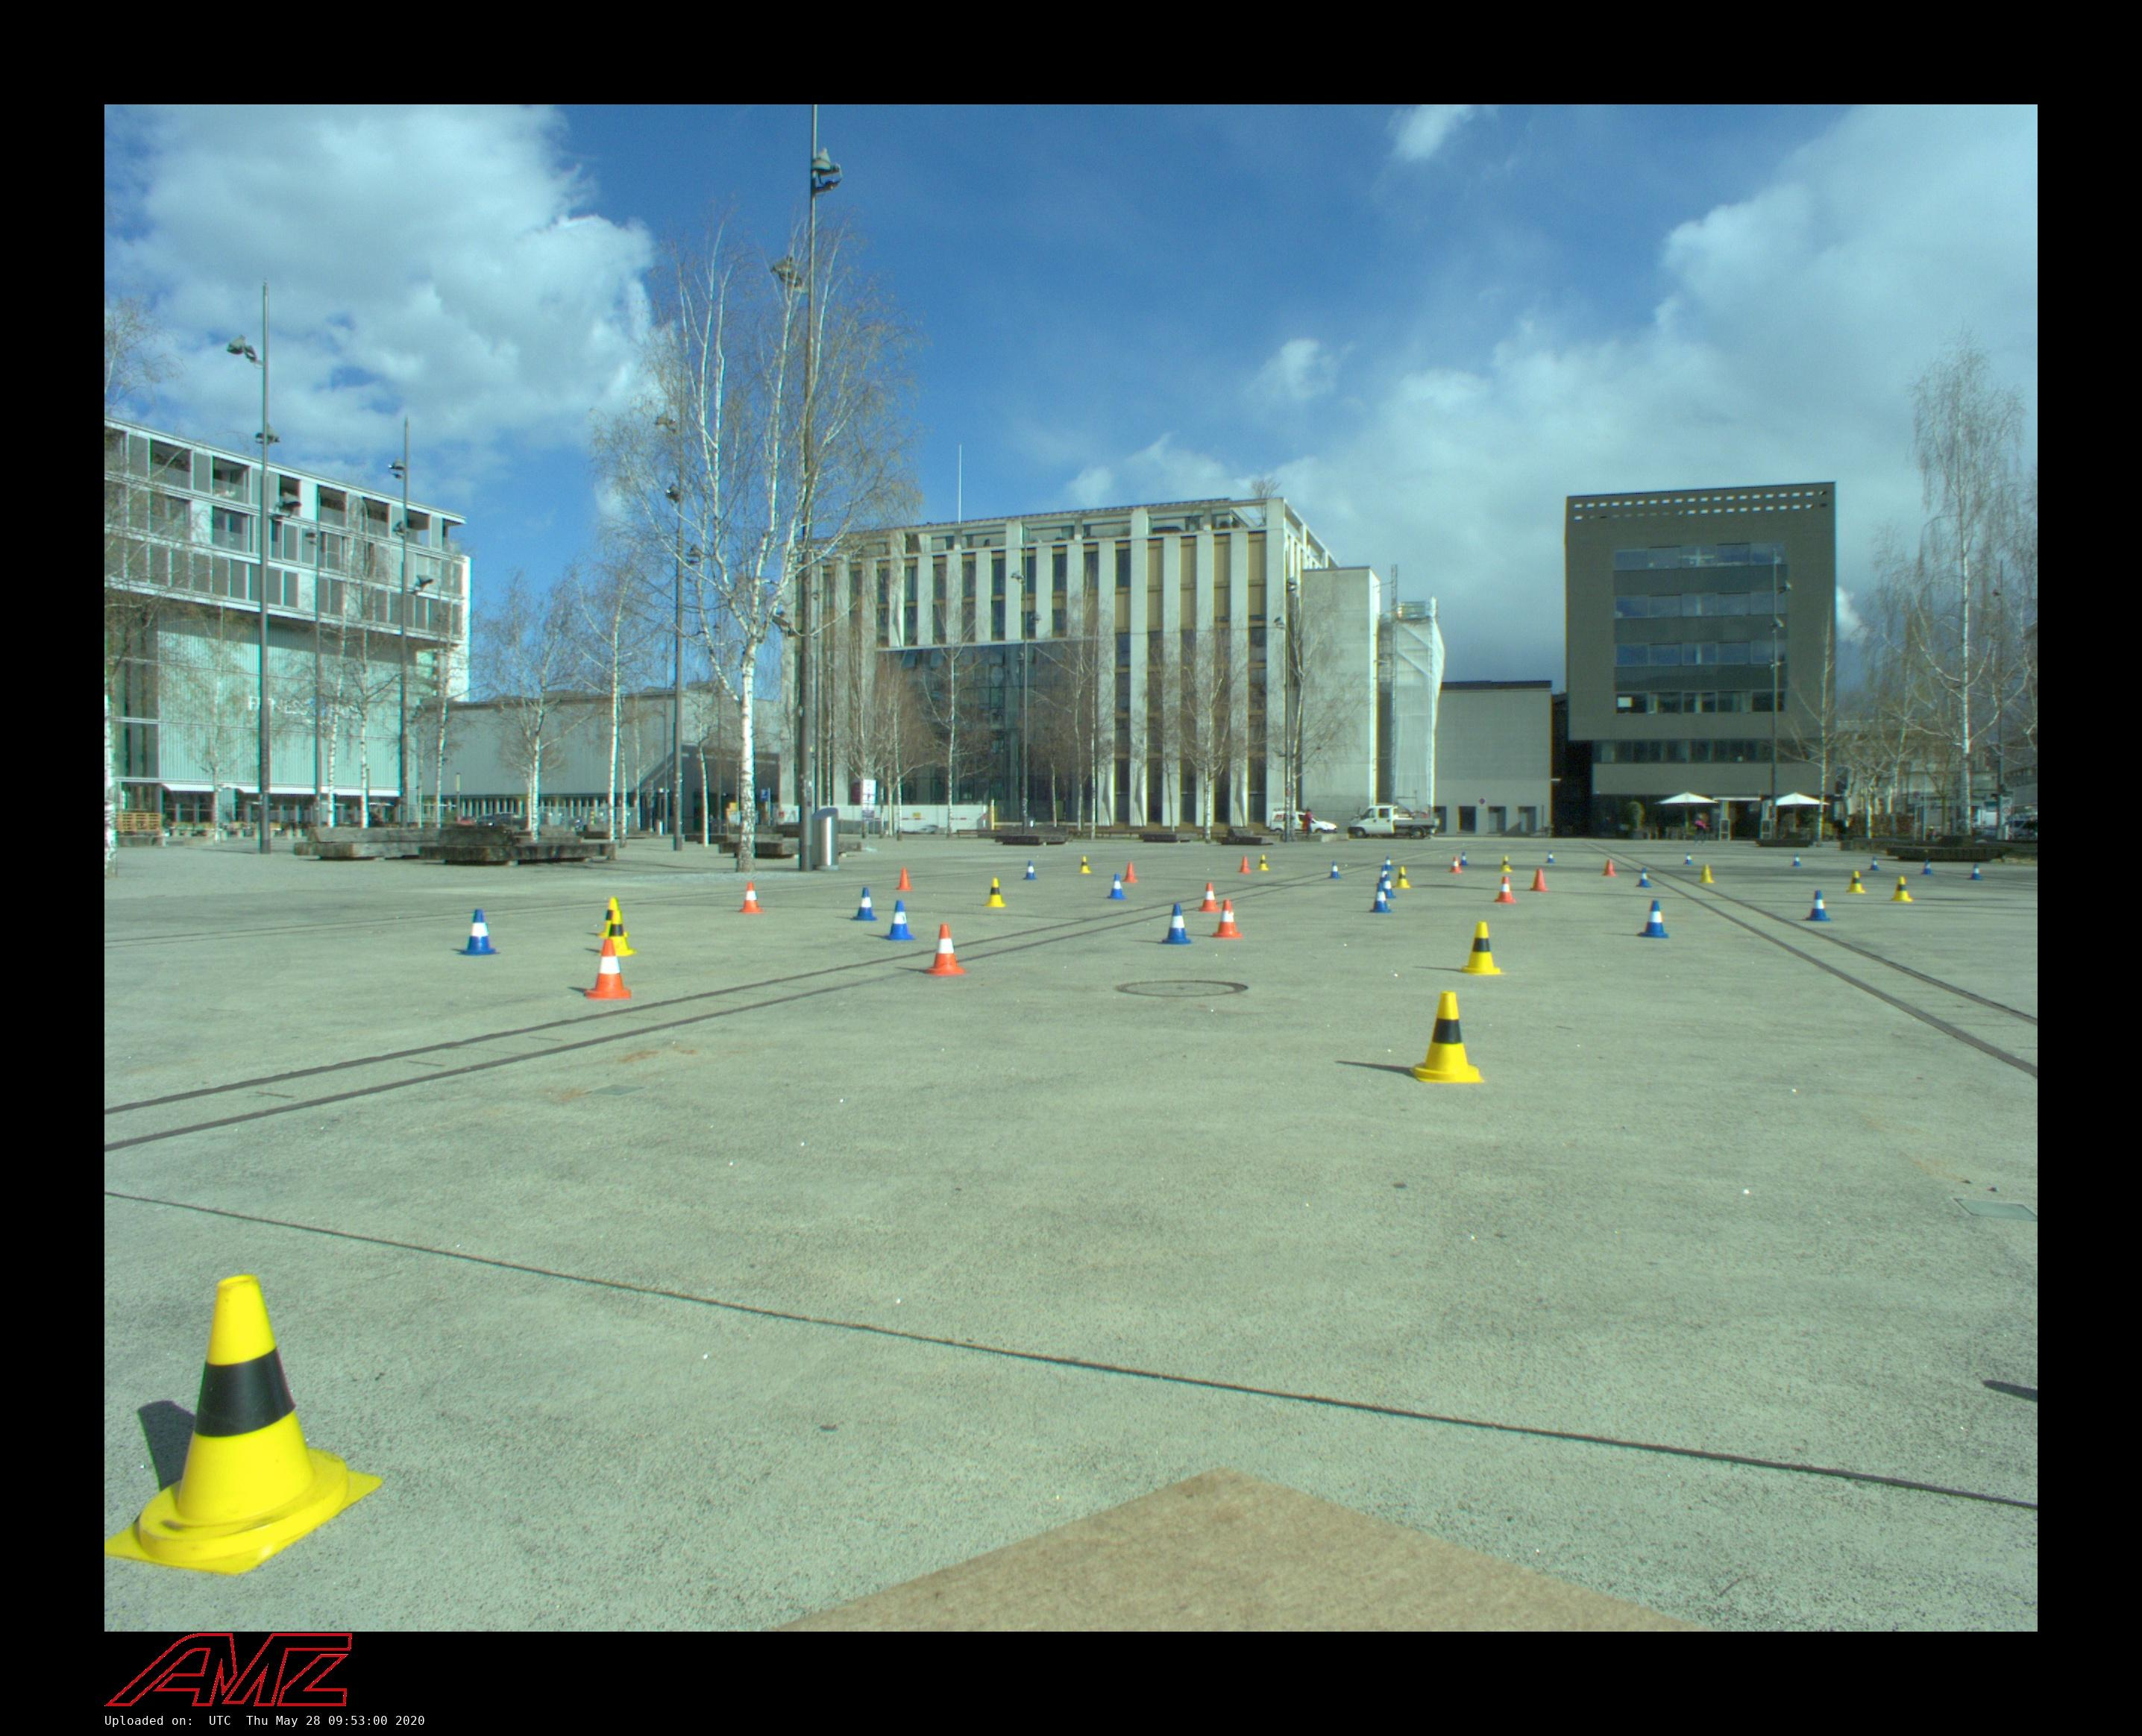blue_cone: (457, 908, 500, 956), (1160, 903, 1193, 945), (885, 900, 916, 940), (1637, 900, 1669, 939), (851, 887, 880, 921), (1805, 890, 1831, 922), (1369, 883, 1392, 913), (1107, 874, 1127, 899), (1378, 874, 1396, 899), (1377, 866, 1393, 887), (1636, 867, 1652, 887), (1023, 861, 1038, 879), (1328, 861, 1342, 878), (1969, 864, 1983, 880), (1381, 857, 1394, 871), (1922, 859, 1933, 875), (1869, 856, 1880, 871), (1457, 852, 1469, 865), (1791, 854, 1803, 867), (1546, 851, 1556, 864), (1684, 852, 1694, 864)
orange_cone: (584, 939, 632, 1000), (926, 924, 967, 976), (1213, 899, 1243, 939), (738, 882, 764, 913), (1199, 883, 1222, 912), (1492, 876, 1516, 903), (1530, 868, 1549, 892), (896, 868, 914, 890), (1121, 862, 1138, 883), (1603, 859, 1617, 877), (1239, 856, 1252, 874), (1449, 857, 1463, 873)
yellow_cone: (104, 1269, 381, 1576), (1409, 991, 1485, 1083), (1460, 922, 1507, 975), (593, 911, 638, 957), (596, 897, 630, 939), (984, 878, 1006, 908), (1891, 876, 1913, 902), (1846, 871, 1867, 894), (1393, 867, 1411, 888), (1697, 864, 1715, 884), (1498, 856, 1513, 872), (1078, 856, 1091, 873), (1257, 855, 1270, 871)
